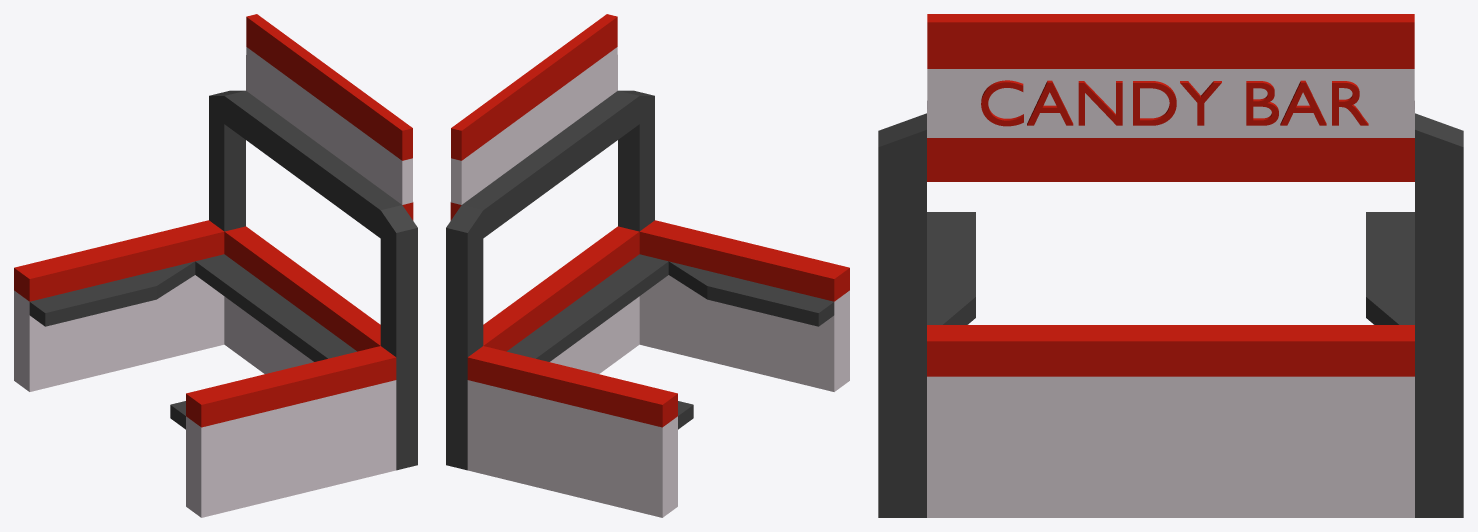
The model's file is Candy Bar.fbx.
3 renders of one model, left to right at view 1: azimuth 30°, elevation 25°; view 2: azimuth 150°, elevation 25°; view 3: azimuth 270°, elevation 25°, orthographic. The views are drawn at different scales.
Parts seen in each view (by area): view 1: Candy Bar; view 2: Candy Bar; view 3: Candy Bar.
Part boxes in pixels (bbox=[...]): Candy Bar: bbox=[14, 14, 417, 517]; Candy Bar: bbox=[446, 14, 849, 517]; Candy Bar: bbox=[878, 14, 1463, 517].
Bounding box in the file's own units: 2123 × 2850 × 3000.
